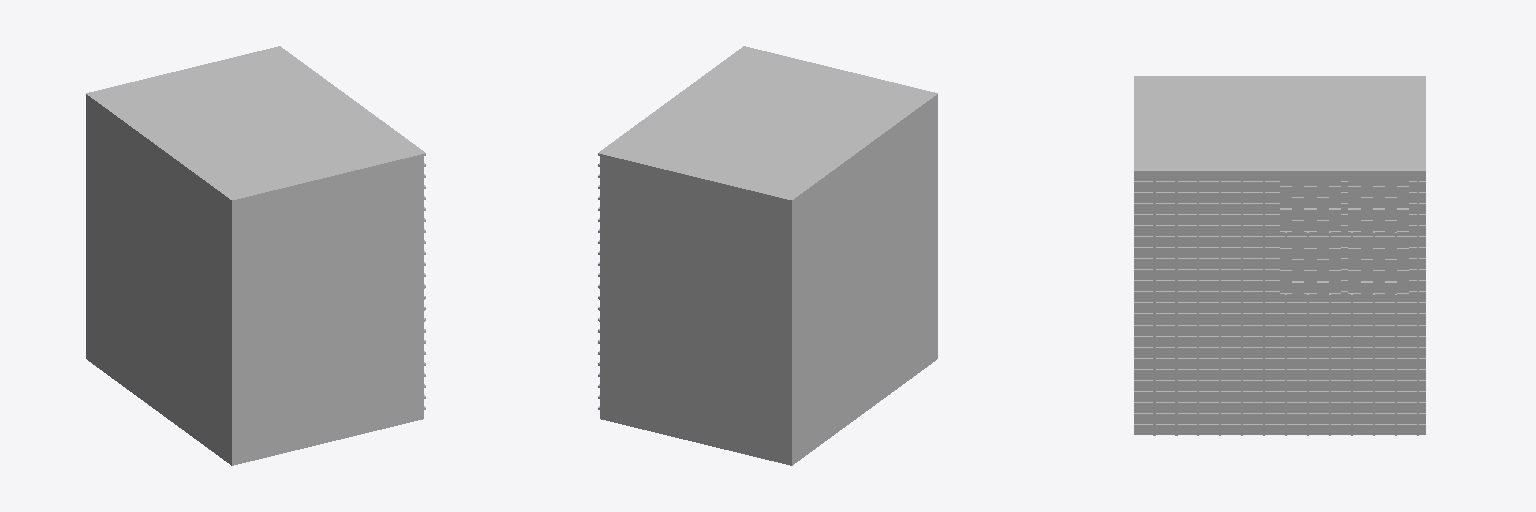
Rendered from 3d fon 1.1-6.obj.
3 views of the same model, side by side, from view 1: azimuth 30°, elevation 25°; view 2: azimuth 150°, elevation 25°; view 3: azimuth 270°, elevation 25° (orthographic).
Visible parts, largest first — view 1: object 1; view 2: object 1; view 3: object 1.
Boxes of the visible parts, <box> form: object 1: <box>86,46,425,465</box>; object 1: <box>598,46,937,465</box>; object 1: <box>1134,76,1425,435</box>.
Size of the model in its own units: 9.2 by 12 by 12.